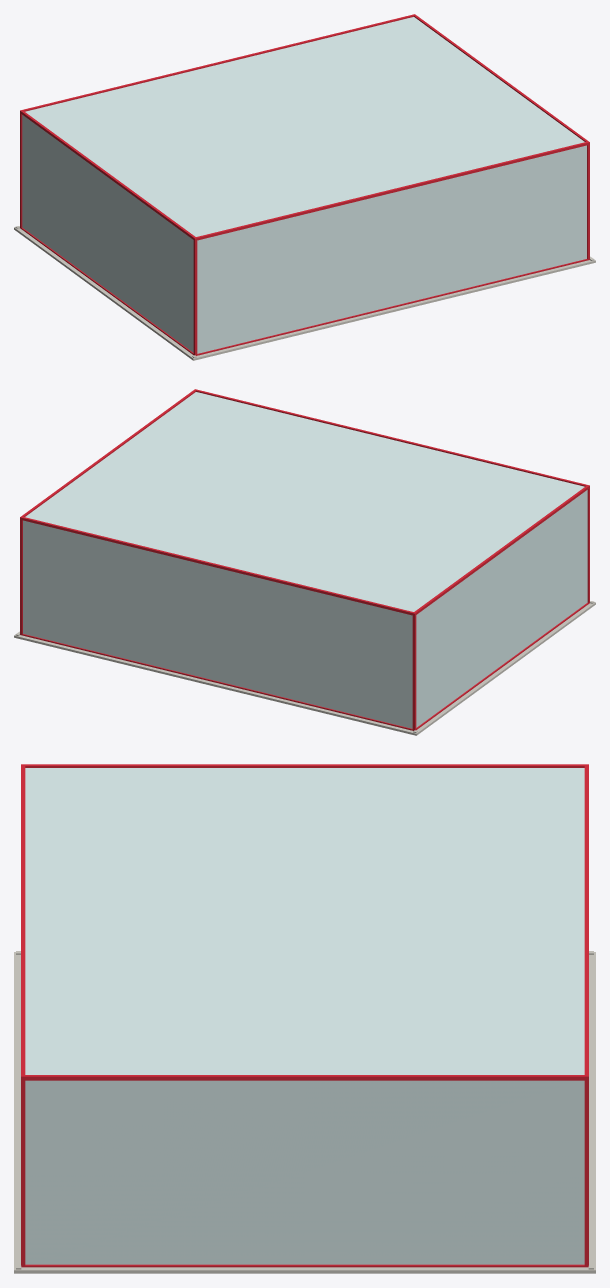
Rendered from tsamkhagt-kran.glb.
3 views of the same model, one above another, from view 1: azimuth 30°, elevation 25°; view 2: azimuth 150°, elevation 25°; view 3: azimuth 270°, elevation 25° (orthographic). The views are drawn at different scales.
Bounding box in the file's own units: 1.23 × 0.3495 × 0.95.
